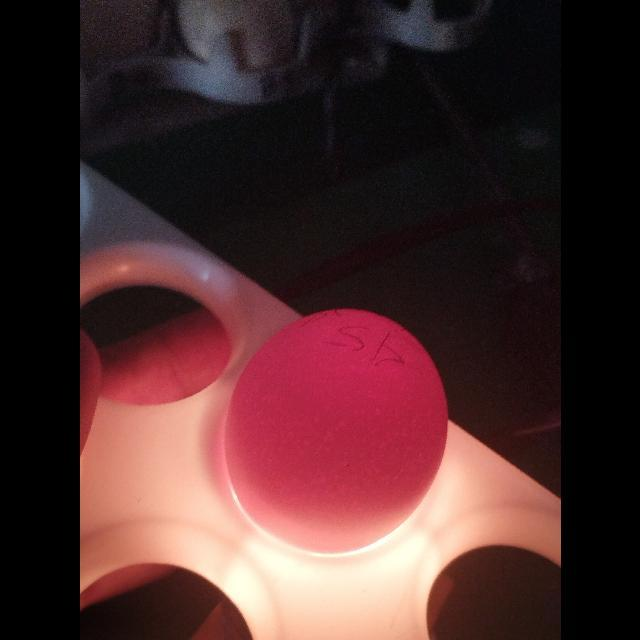Infertile: (220, 304, 452, 562)
